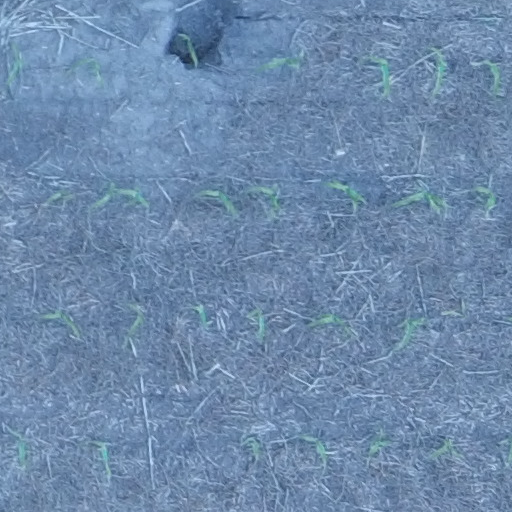planta: (82, 439, 112, 478), (323, 179, 365, 206), (392, 191, 448, 210), (40, 310, 80, 336), (200, 188, 238, 215), (427, 46, 447, 97), (248, 184, 281, 213), (72, 57, 104, 84), (370, 55, 391, 95), (402, 317, 426, 346), (7, 44, 24, 84), (301, 434, 327, 459), (126, 301, 145, 335), (258, 57, 301, 72), (246, 310, 267, 339), (180, 33, 199, 64), (431, 439, 462, 458), (117, 188, 148, 206), (486, 61, 502, 95), (476, 186, 497, 208), (95, 184, 116, 206), (311, 313, 344, 326), (367, 439, 392, 456), (194, 306, 209, 326), (243, 437, 258, 455), (17, 439, 26, 466)
